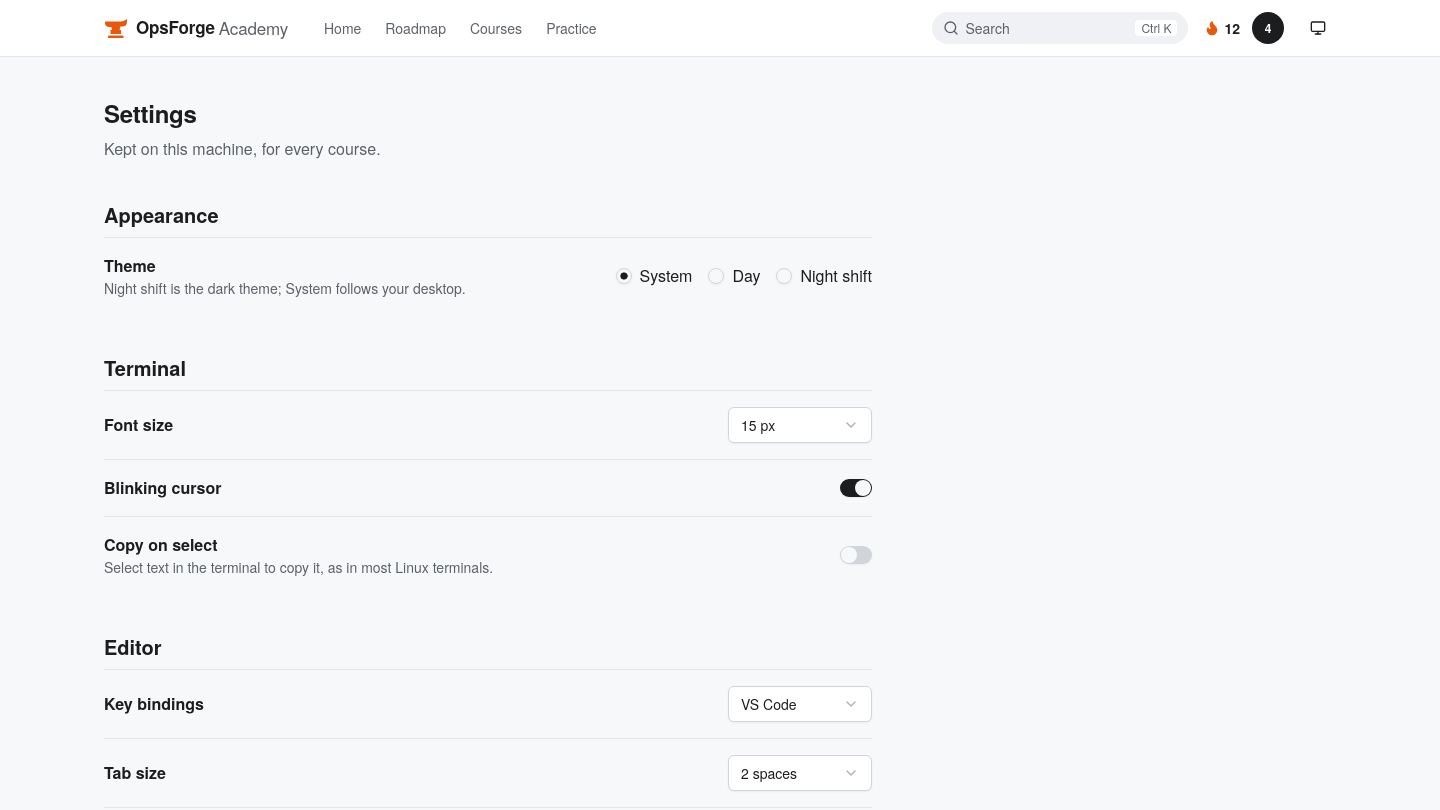
Test: settings › sets the theme for the whole page, the header's toggle included
Click the 3rd radio button named "Night shift".
click(784, 276)  # box [776,268,792,284]
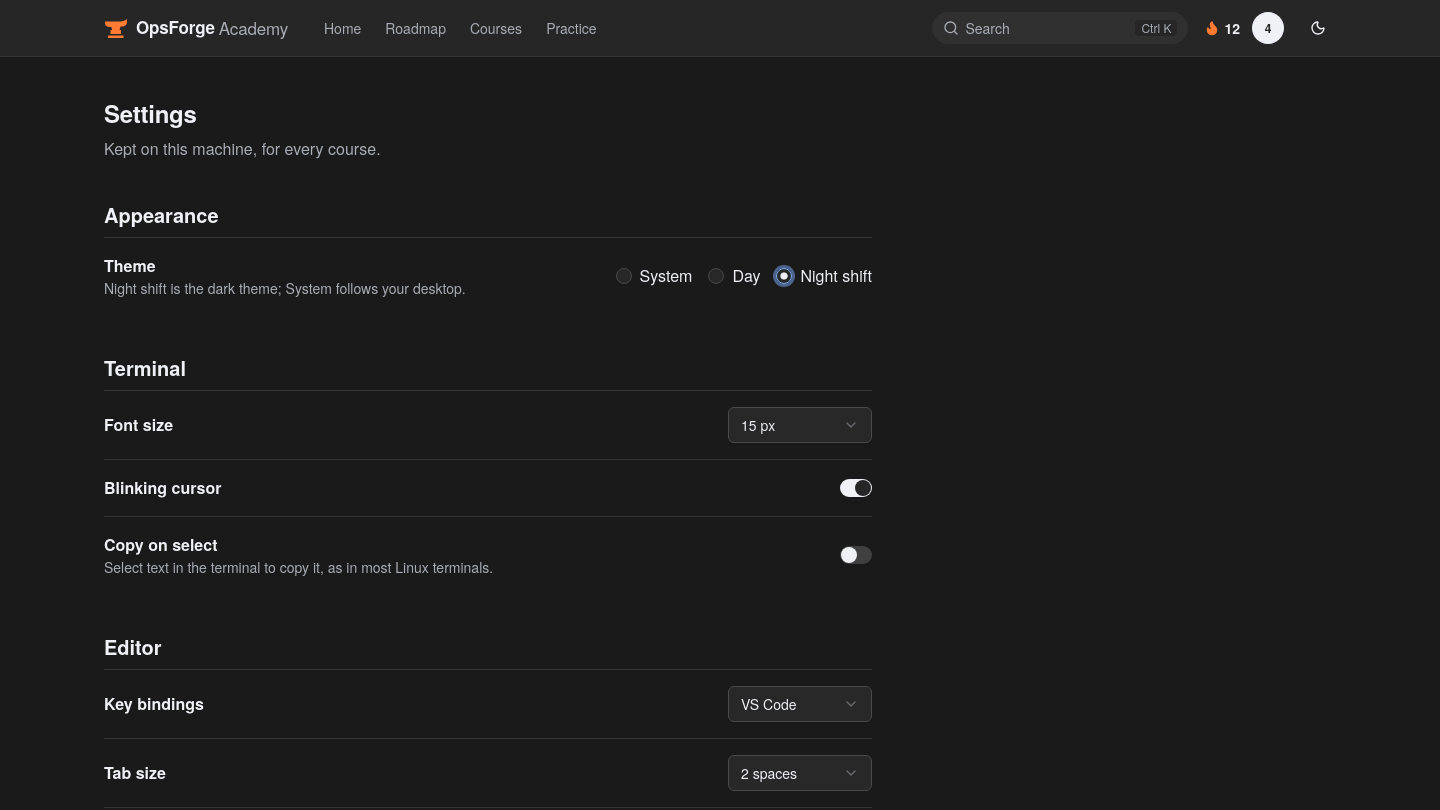
Check: the button named "Theme: dark. Switch to system" is shown, box [1300,10,1336,46]
